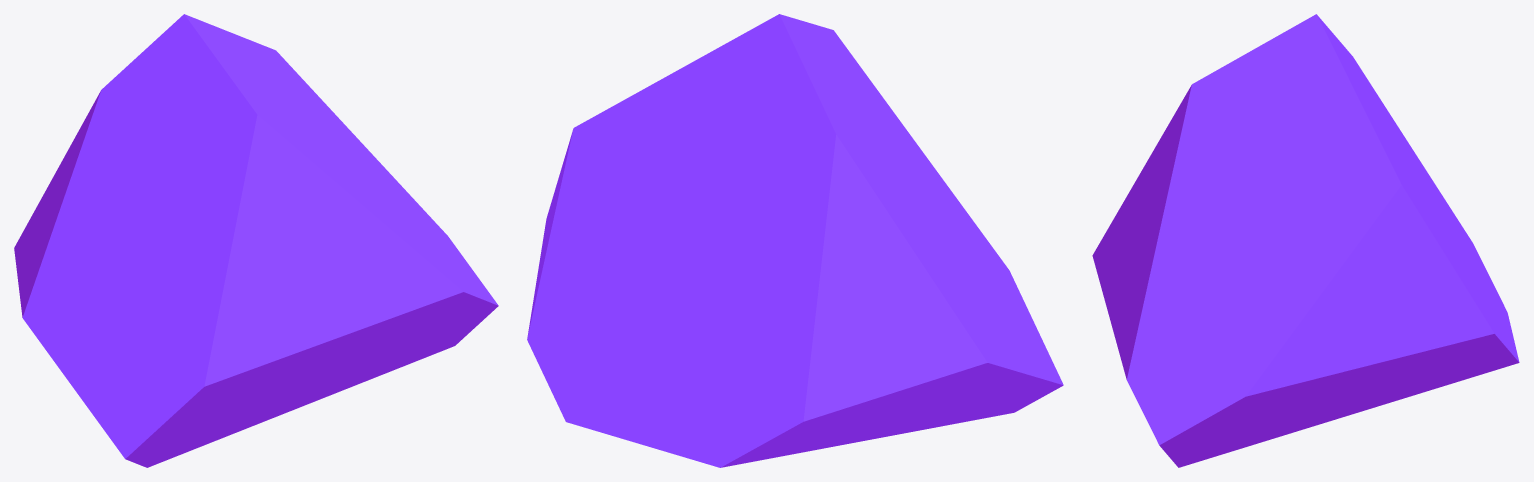
Rendered from Crystal Mini.fbx.
The picture shows the model from 3 angles, left to right: view 1: azimuth 30°, elevation 25°; view 2: azimuth 150°, elevation 25°; view 3: azimuth 270°, elevation 25°; orthographic projection. The views are drawn at different scales.
Parts seen in each view (by area): view 1: Куб; view 2: Куб; view 3: Куб.
Boxes of the visible parts, box(x1,y1,x2,y2) form: Куб: box(14, 14, 498, 467); Куб: box(527, 14, 1063, 467); Куб: box(1092, 14, 1519, 467).
Size of the model in its own units: 151 by 130 by 131.
